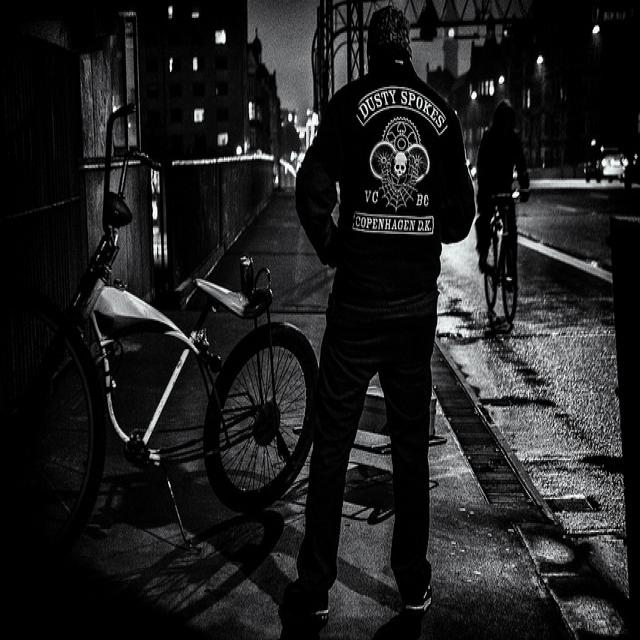Bicycle: (21, 125, 297, 526), (476, 183, 538, 307)
People: (308, 10, 444, 615), (490, 84, 525, 209)
